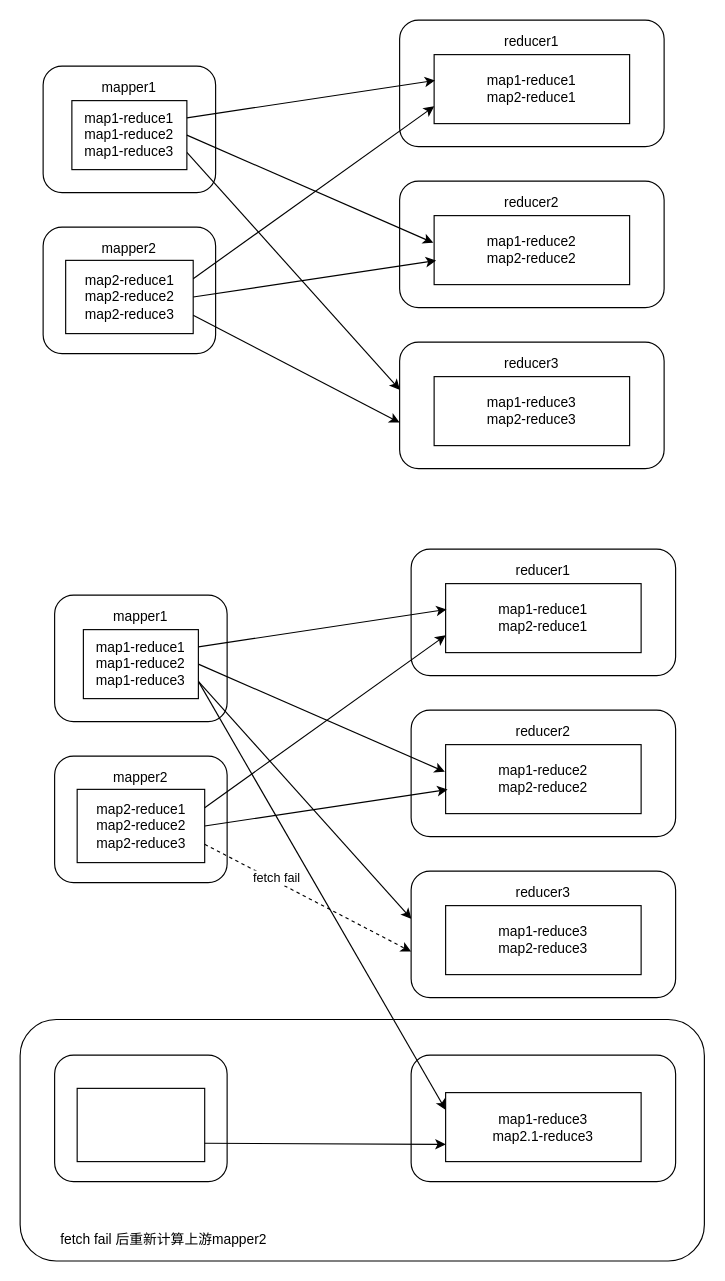
The diagram is 725 pixels wide and 1281 high, and some of its shapes have lost their labels. Each missing label, with the box of its shape:
map2.1-reduce1 map2.1-reduce2 map2.1-reduce3: (76, 1087, 205, 1162)
mapper2.1: (53, 1054, 227, 1182)
reducer3.1: (410, 1054, 676, 1182)
